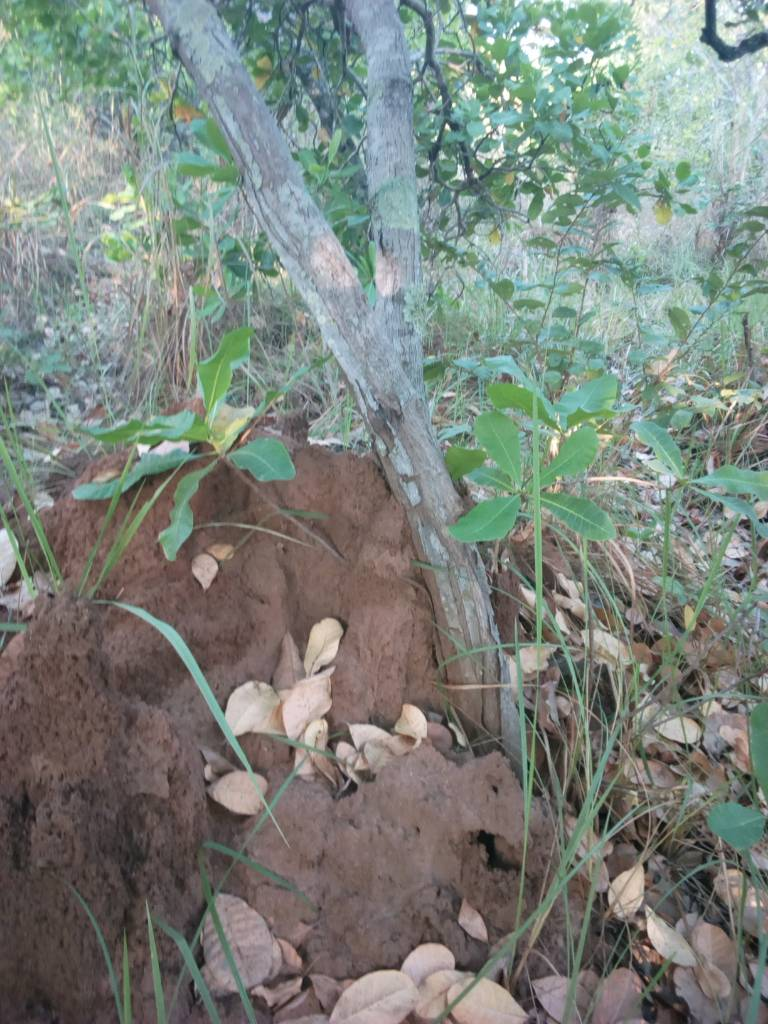Termites: (7, 628, 180, 1017), (341, 763, 518, 949), (321, 471, 443, 721)
